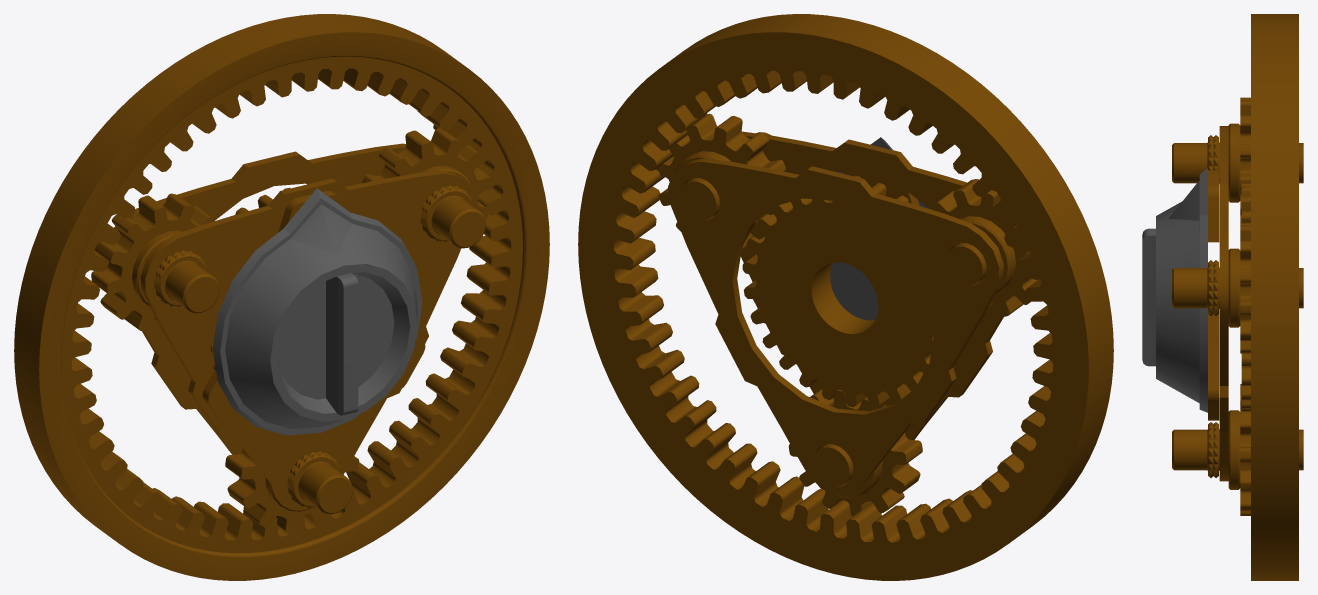
The model's file is scp914_gears.fbx.
3 renders of one model, left to right at view 1: azimuth 30°, elevation 25°; view 2: azimuth 150°, elevation 25°; view 3: azimuth 270°, elevation 25°, orthographic. The views are drawn at different scales.
Parts seen in each view (by area): view 1: gearset_ring1, gearset_carrier, scp914_dial_new, gearset_planet1, gearset_planet2, gearset_planet3, gearset_sun1; view 2: gearset_ring1, gearset_carrier, gearset_sun1, gearset_planet2, gearset_planet3, gearset_planet1, scp914_dial_new; view 3: gearset_ring1, gearset_carrier, scp914_dial_new, gearset_planet2, gearset_planet3, gearset_planet1, gearset_sun1.
Part boxes in pixels (<box>): gearset_ring1: <box>14,14,549,580</box>; gearset_carrier: <box>114,143,485,514</box>; scp914_dial_new: <box>212,188,422,435</box>; gearset_planet1: <box>91,193,214,331</box>; gearset_planet2: <box>362,128,492,219</box>; gearset_planet3: <box>225,449,359,532</box>; gearset_sun1: <box>210,187,290,370</box>; gearset_ring1: <box>578,14,1113,580</box>; gearset_carrier: <box>668,131,1015,497</box>; gearset_sun1: <box>742,175,934,408</box>; gearset_planet2: <box>655,113,785,249</box>; gearset_planet3: <box>788,388,922,516</box>; gearset_planet1: <box>931,179,1039,316</box>; scp914_dial_new: <box>830,137,929,320</box>; gearset_ring1: <box>1251,14,1298,580</box>; gearset_carrier: <box>1172,123,1303,489</box>; scp914_dial_new: <box>1142,168,1207,412</box>; gearset_planet2: <box>1240,223,1250,353</box>; gearset_planet3: <box>1240,384,1250,515</box>; gearset_planet1: <box>1240,97,1250,222</box>; gearset_sun1: <box>1241,183,1250,411</box>.
Bounding box in the file's own units: 2.74 × 2.74 × 0.7792.
